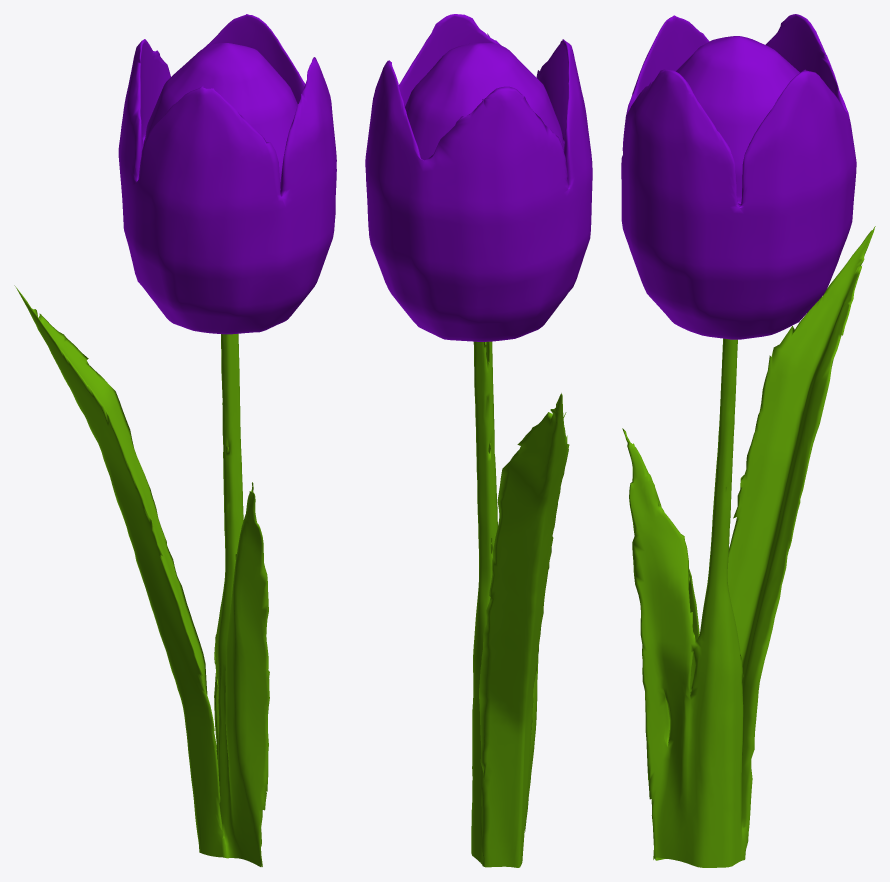
Rendered from purple2.glb.
The picture shows the model from 3 angles, left to right: view 1: azimuth 30°, elevation 25°; view 2: azimuth 150°, elevation 25°; view 3: azimuth 270°, elevation 25°; orthographic projection. The views are drawn at different scales.
Parts seen in each view (by area): view 1: tulip_purple3, tulip_leaf; view 2: tulip_purple3, tulip_leaf; view 3: tulip_purple3, tulip_leaf.
Part boxes in pixels (x1,y1,x2,y2): tulip_purple3: (118,14,336,334); tulip_leaf: (14,285,269,866); tulip_purple3: (365,14,592,341); tulip_leaf: (471,341,569,867); tulip_purple3: (621,14,856,339); tulip_leaf: (622,226,875,867).
Bounding box in the file's own units: 0.2801 × 0.8916 × 0.2477.
